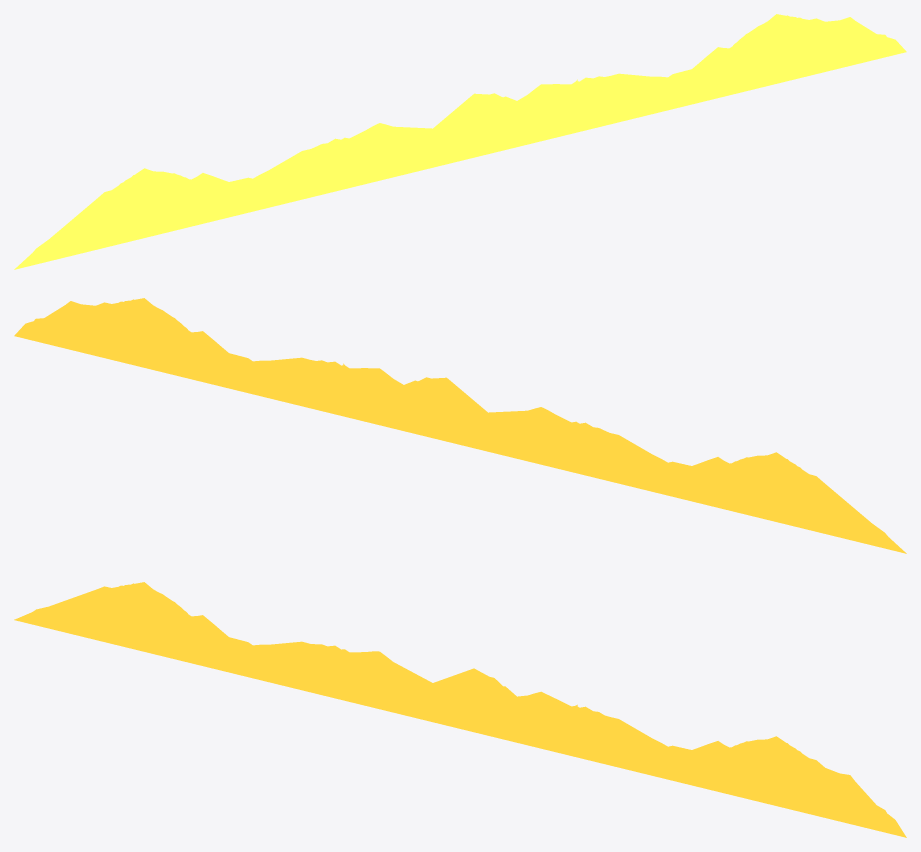
The model's file is mountains.gltf.
3 renders of one model, top to bottom at view 1: azimuth 30°, elevation 25°; view 2: azimuth 150°, elevation 25°; view 3: azimuth 330°, elevation 25°, orthographic.
Visible parts, largest first — view 1: mountains; view 2: mountains; view 3: mountains.
Part boxes in pixels (box(x1,y1,x2,y2)): mountains: box(14, 14, 906, 269); mountains: box(14, 298, 906, 553); mountains: box(14, 582, 906, 837).
Bounding box in the file's own units: 25.4 × 1.9 × 0.000278.
